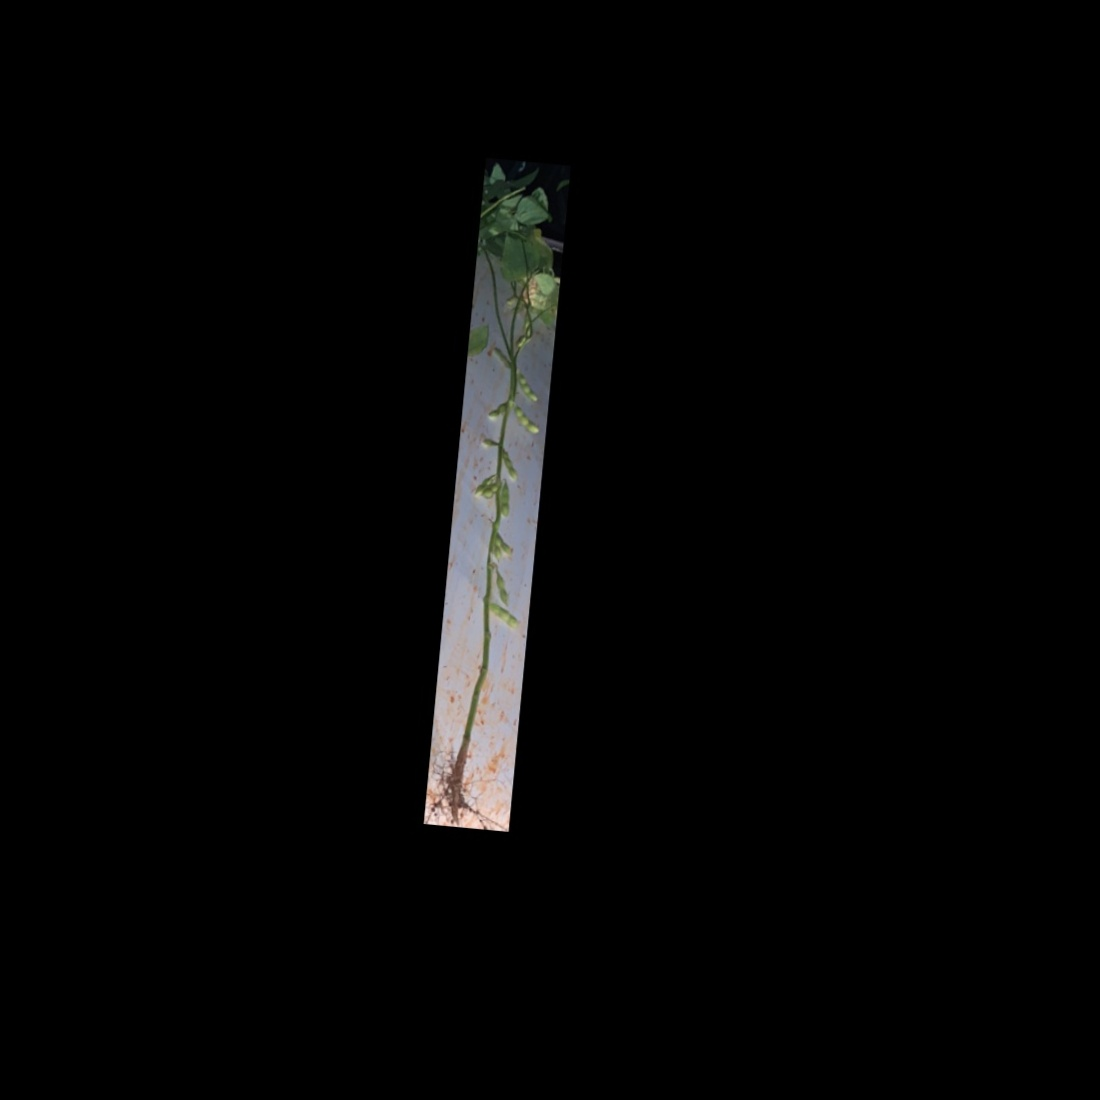pod: (508, 401, 542, 436), (513, 369, 543, 405), (489, 568, 513, 608), (487, 602, 522, 629), (498, 450, 522, 484), (497, 477, 515, 520), (491, 534, 515, 556), (478, 478, 497, 502), (486, 402, 506, 421)
soy: (431, 178, 567, 825)
